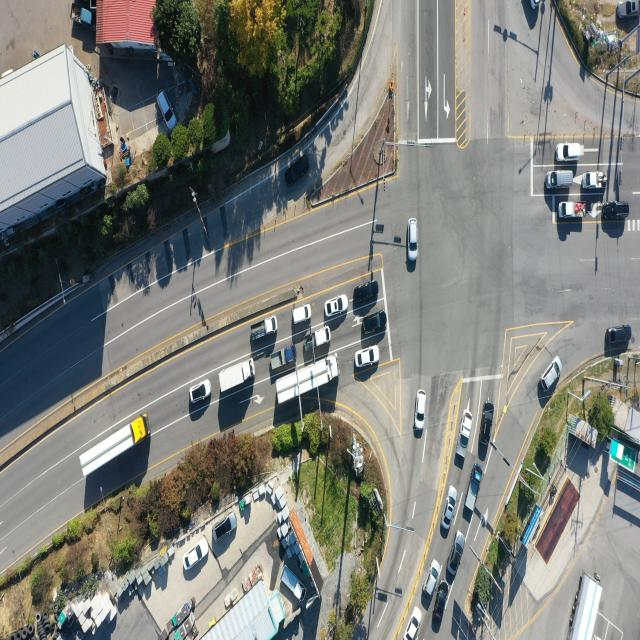car: (184, 538, 213, 576), (448, 532, 466, 576), (158, 89, 177, 130), (481, 402, 495, 457), (540, 356, 562, 390), (443, 488, 459, 532), (286, 154, 308, 186), (424, 559, 441, 597), (361, 313, 386, 338), (188, 379, 211, 405), (353, 281, 379, 304), (214, 513, 235, 541), (547, 170, 576, 190), (406, 608, 424, 640), (434, 583, 450, 619), (326, 293, 350, 316), (602, 200, 627, 222), (355, 346, 379, 368), (606, 326, 632, 346), (408, 220, 420, 262), (557, 143, 582, 162), (416, 390, 427, 431), (291, 304, 311, 326), (617, 0, 640, 19)
medium_truck: (81, 412, 152, 479), (272, 352, 338, 405), (565, 575, 601, 640), (219, 358, 256, 394)
small_truck: (454, 411, 472, 470), (280, 564, 306, 602), (464, 468, 482, 515), (252, 317, 280, 345), (270, 344, 297, 370), (73, 2, 96, 30), (309, 326, 331, 351), (559, 200, 586, 220), (582, 171, 607, 190)
